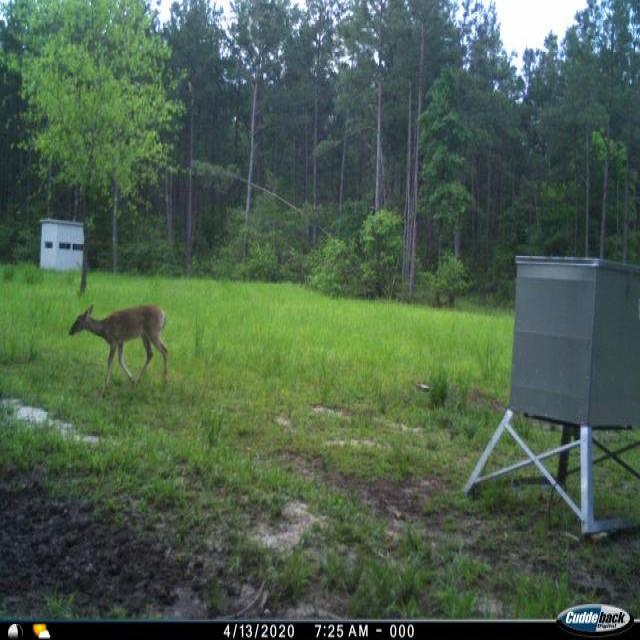deer: (63, 301, 179, 399)
